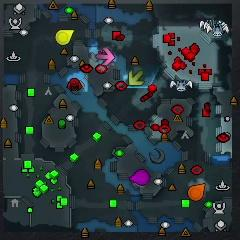p3: (131, 170, 150, 186)
p4: (56, 29, 74, 45)
p5: (188, 183, 206, 202)
x1: (96, 48, 115, 65)
x2: (128, 70, 144, 87)
